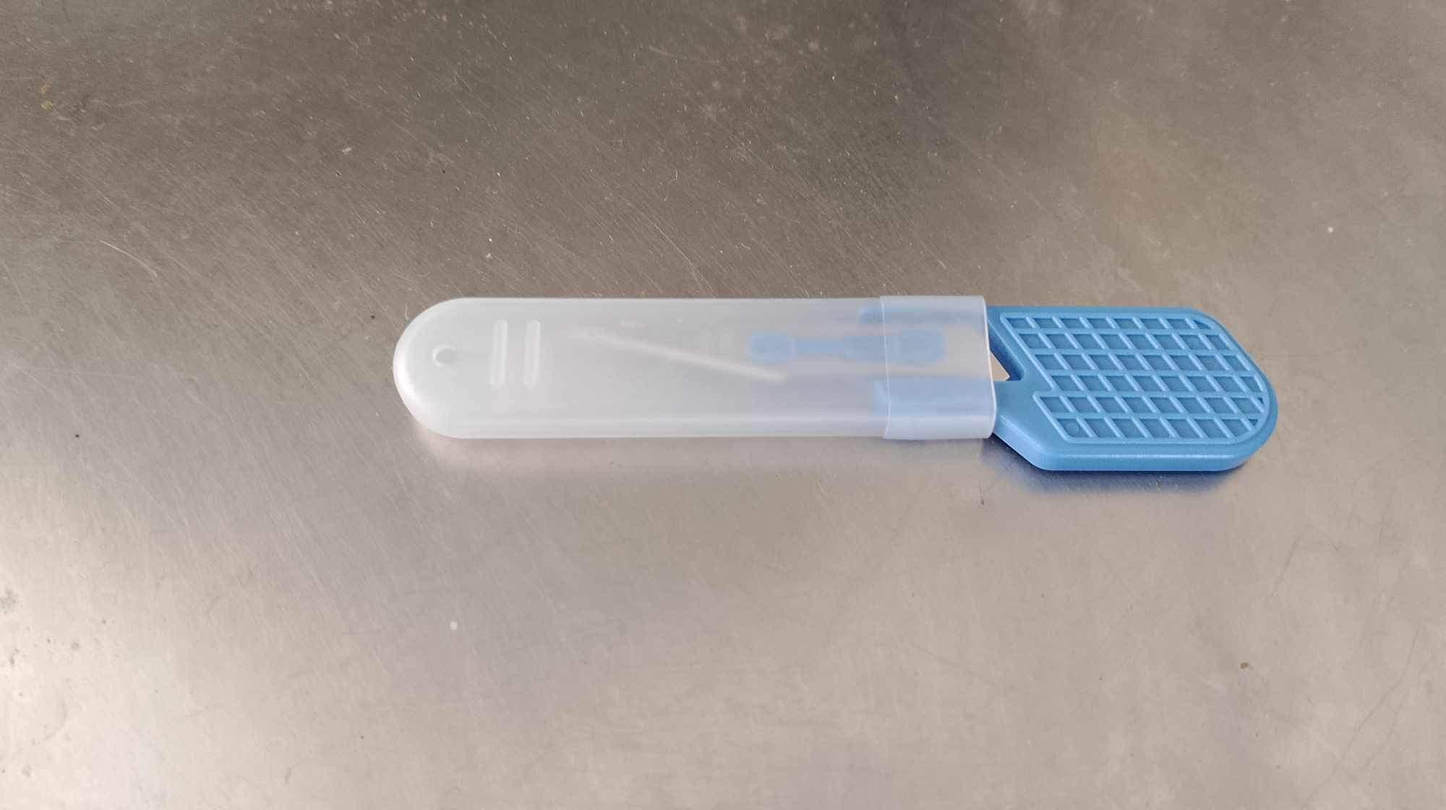General: (6, 4, 1437, 803), (985, 302, 1280, 477)
Sharps: (390, 291, 1279, 475)
